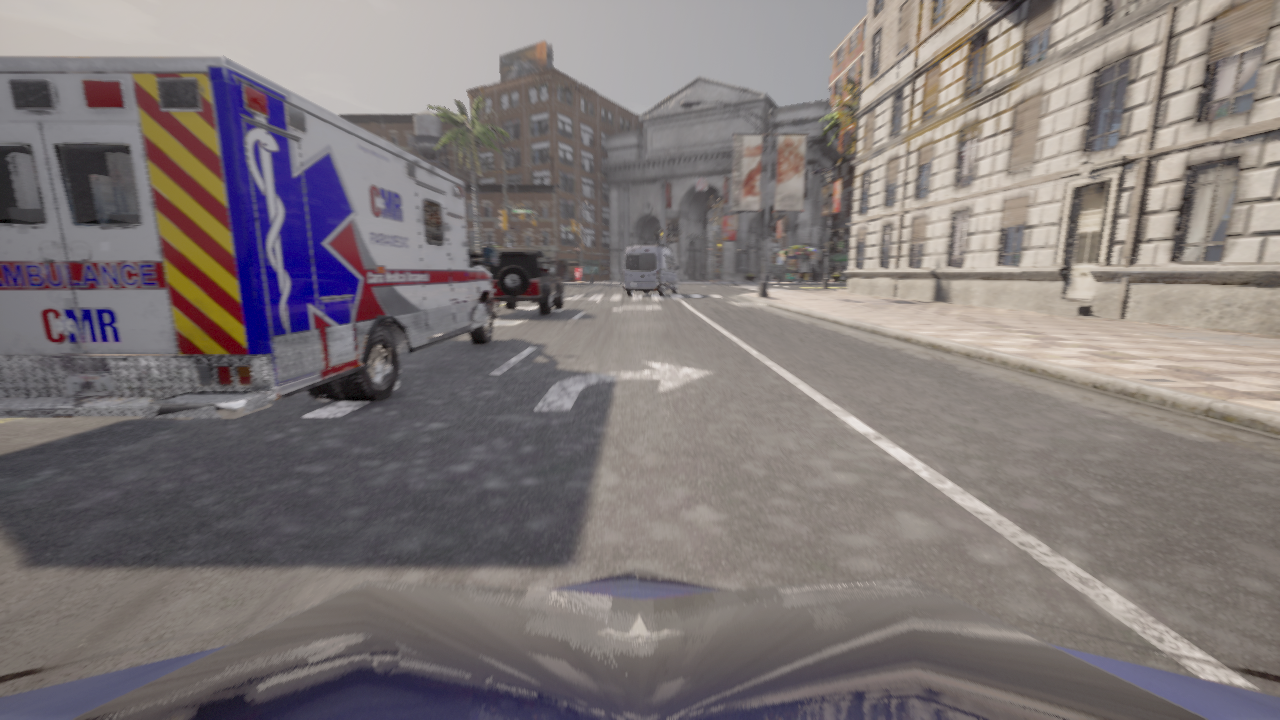cyclist: (0, 569, 1279, 719), (487, 249, 563, 315), (622, 246, 678, 296)
